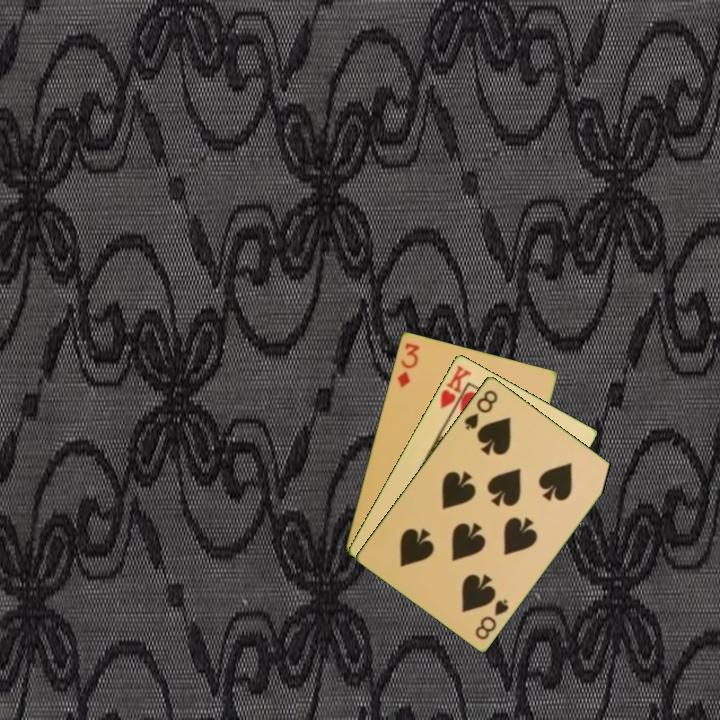3d: (393, 339, 422, 390)
8s: (472, 595, 512, 642), (461, 386, 501, 432)
Kh: (436, 361, 474, 419)
